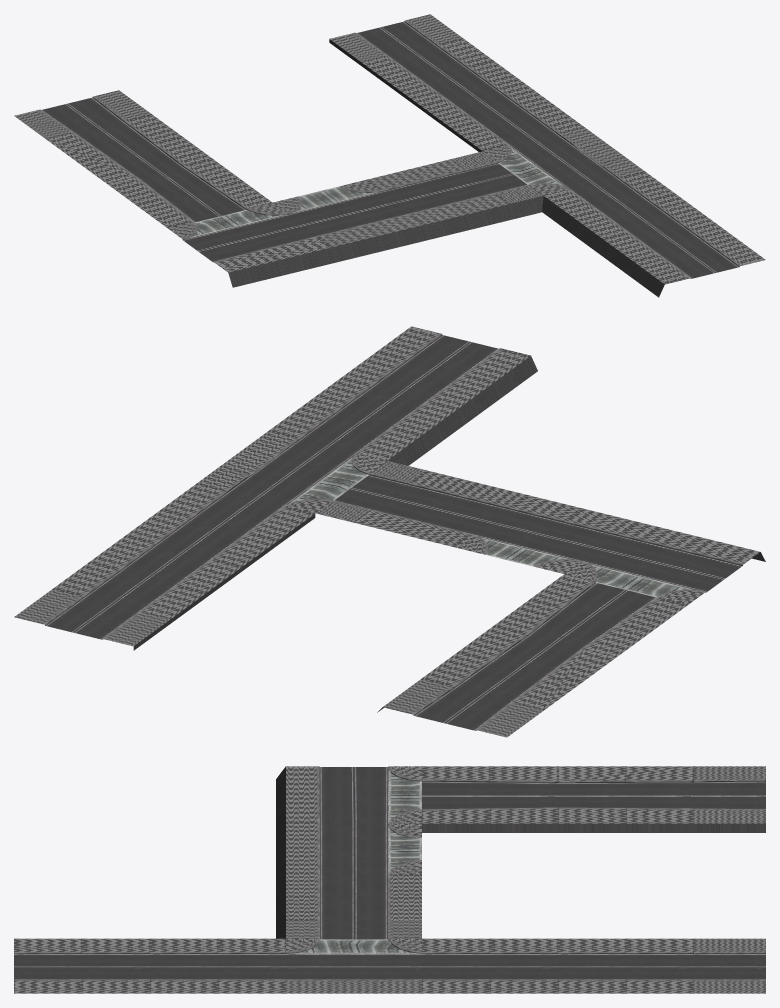
File: roadssfs29.obj
3 views of the same model, one above another, from view 1: azimuth 30°, elevation 25°; view 2: azimuth 150°, elevation 25°; view 3: azimuth 270°, elevation 25° (orthographic). The views are drawn at different scales.
Parts seen in each view (by area): view 1: ROADSsfs29; view 2: ROADSsfs29; view 3: ROADSsfs29.
Part boxes in pixels (x1,y1,x2,y2): ROADSsfs29: (14, 14, 765, 297); ROADSsfs29: (14, 326, 765, 737); ROADSsfs29: (14, 766, 765, 993).
Size of the model in its own units: 79.23 by 2.17 by 111.
4 materials, 4 textured.
